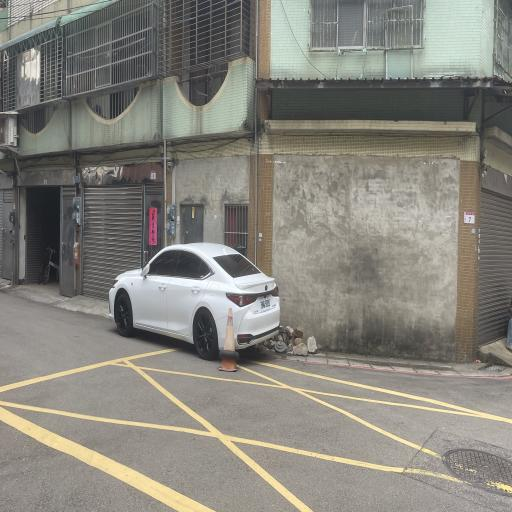car: (101, 232, 282, 372)
redline: (290, 348, 512, 389)
